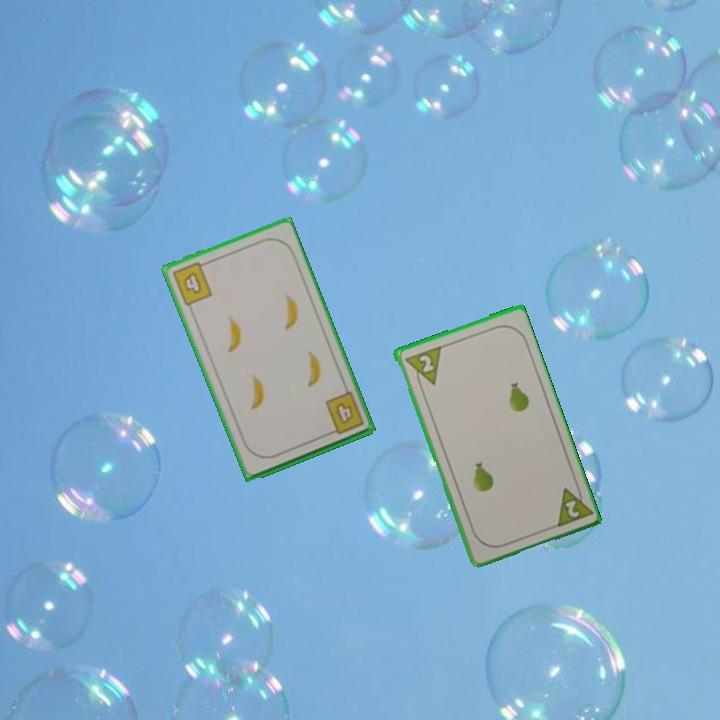2p: (551, 479, 594, 530), (401, 342, 444, 392)
4b: (168, 258, 215, 309), (321, 388, 367, 438)
